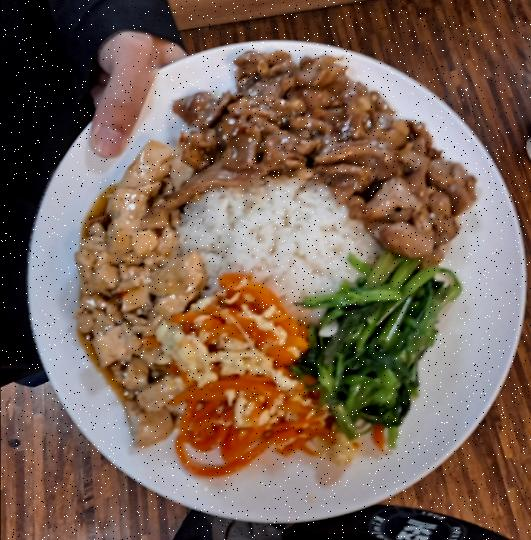big fried chicken leg: (19, 36, 531, 520)
big herbal chicken leg: (177, 170, 379, 308)
braised fish fillet: (76, 142, 197, 450), (178, 276, 315, 470), (309, 256, 455, 434)
braised pork: (176, 51, 484, 262)
